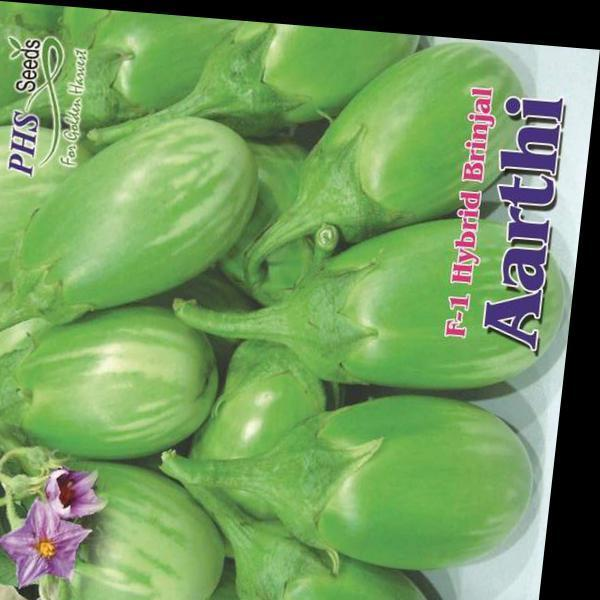eggplant: (19, 24, 473, 439)
